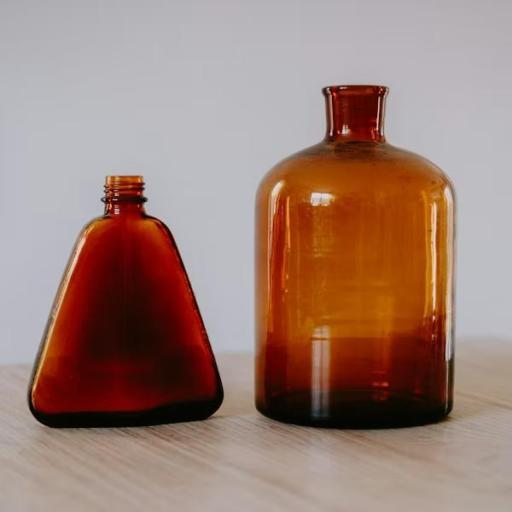bottle: (239, 78, 465, 432), (20, 168, 232, 428)
